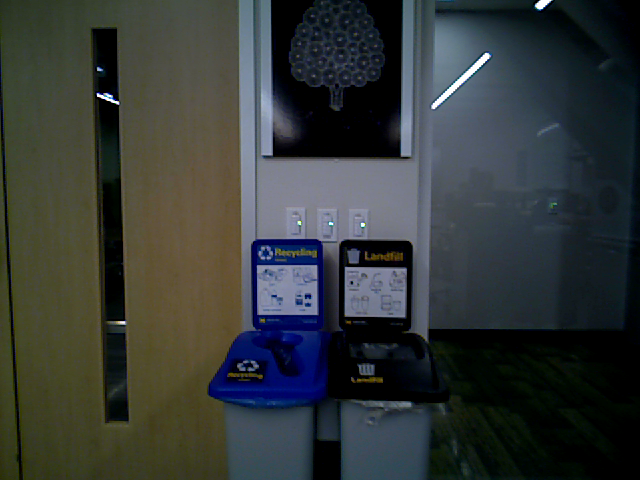painting1: (264, 1, 412, 163)
